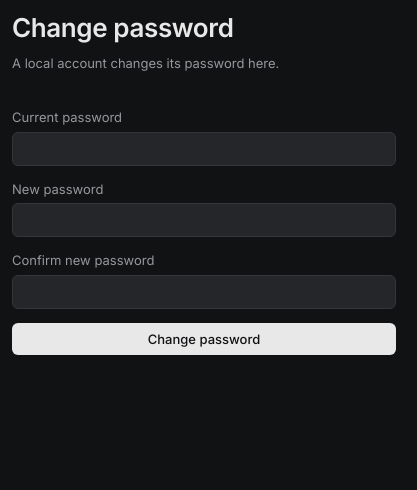
Test: the password policy refusal › lists the server's sentences in English
This screenshot has width=417, height=490.
In the password field labelled "Current password": (204, 148) [12,132,396,166], type "old-password-1"
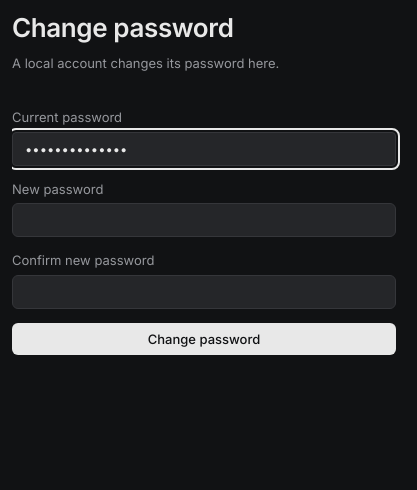
In the password field labelled "New password": (204, 220) [12,203,396,237], type "short"
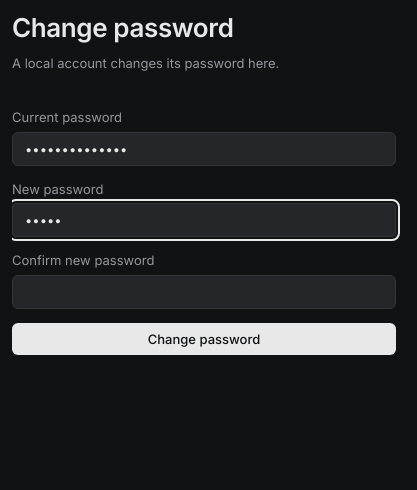
In the password field labelled "Confirm new password": (204, 292) [12,274,396,308], type "short"
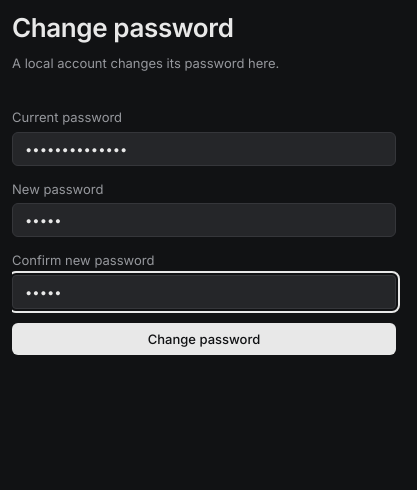
Click the button "Change password": (204, 338) [12,322,396,354]
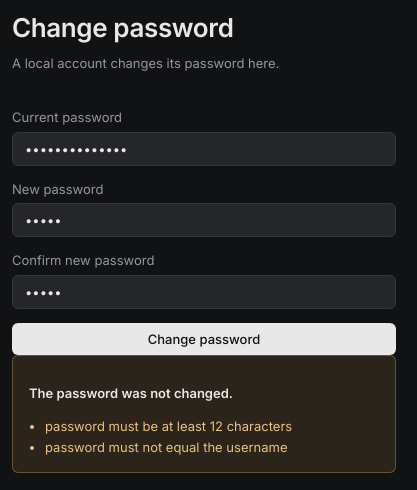
Expected: the message shows "password must be at least 12 characters", [45,418,292,434]
Expected: the message shows "password must not equal the username", [45,439,288,455]
